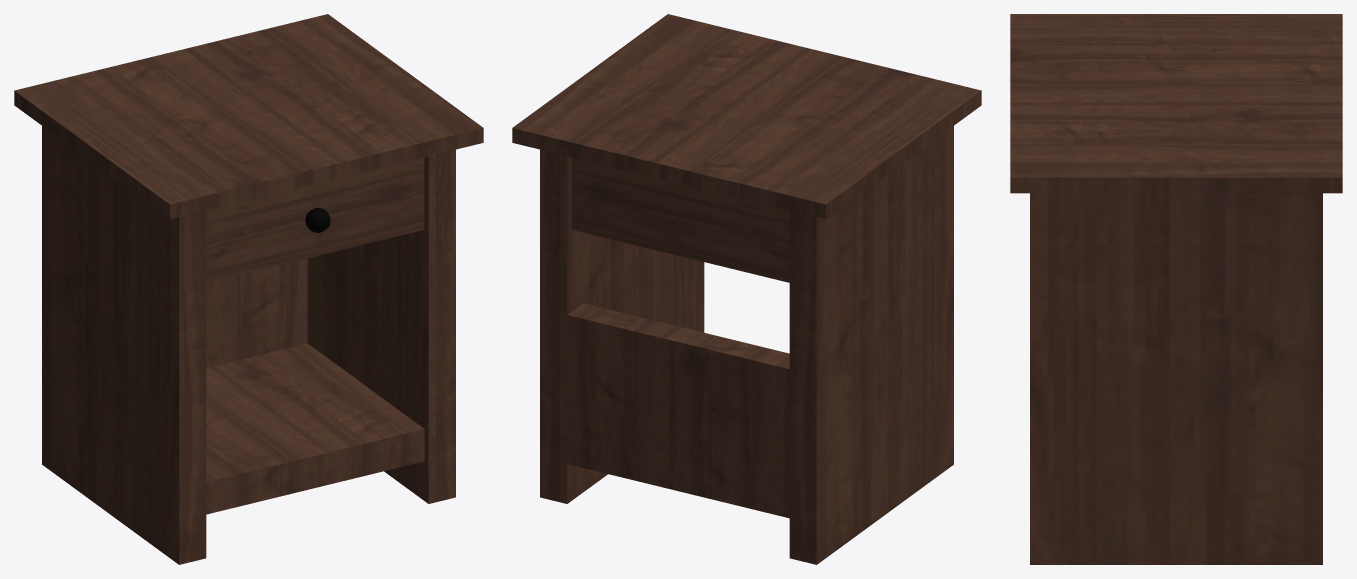
The model's file is BedsideT.fbx.
The picture shows the model from 3 angles, left to right: view 1: azimuth 30°, elevation 25°; view 2: azimuth 150°, elevation 25°; view 3: azimuth 270°, elevation 25°; orthographic projection. The views are drawn at different scales.
Parts seen in each view (by area): view 1: Nightstand, Icosphere; view 2: Nightstand, Icosphere; view 3: Nightstand.
Boxes of the visible parts, bbox=[...] form: Nightstand: bbox=[14, 14, 483, 564]; Icosphere: bbox=[206, 157, 424, 282]; Nightstand: bbox=[512, 14, 981, 564]; Icosphere: bbox=[571, 157, 789, 282]; Nightstand: bbox=[1010, 14, 1342, 564].
Size of the model in its own units: 94.49 by 107 by 81.23.
Materials: 2 (1 with a texture image).
